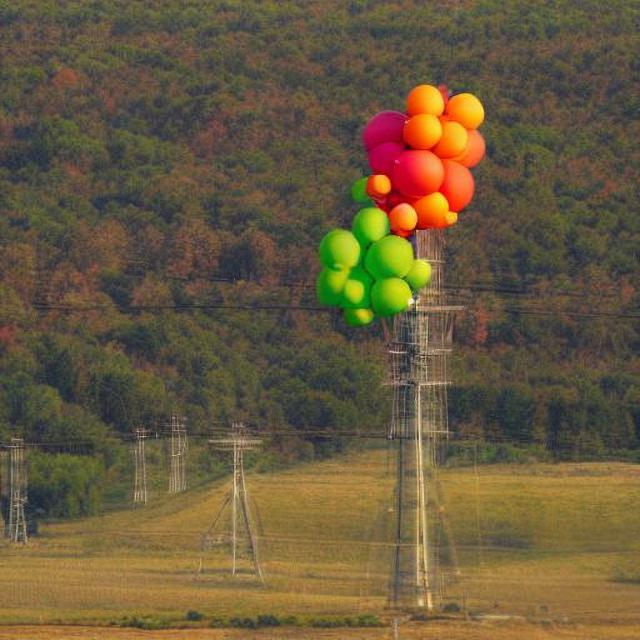balloon: (302, 81, 487, 329)
